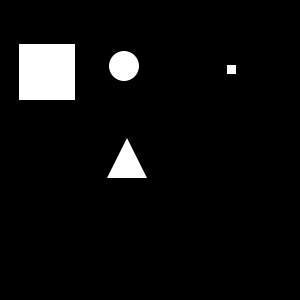circle: (19, 44, 75, 100), (227, 65, 236, 74)
rectangle: (109, 51, 139, 81)
triangle: (107, 138, 147, 178)
